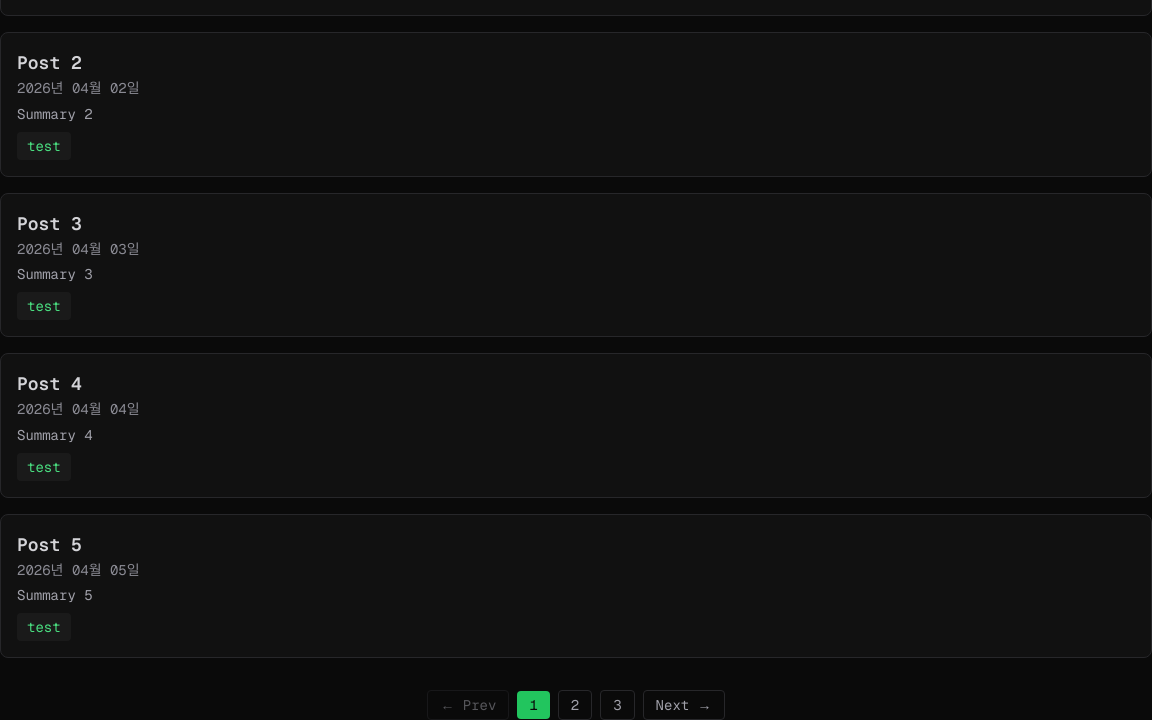
Test: PostList › navigates to next page
The width and height of the screenshot is (1152, 720).
(page scrolled)
Click the button "Next →" at (684, 705), box 643,690 -> 725,719
(page scrolled)
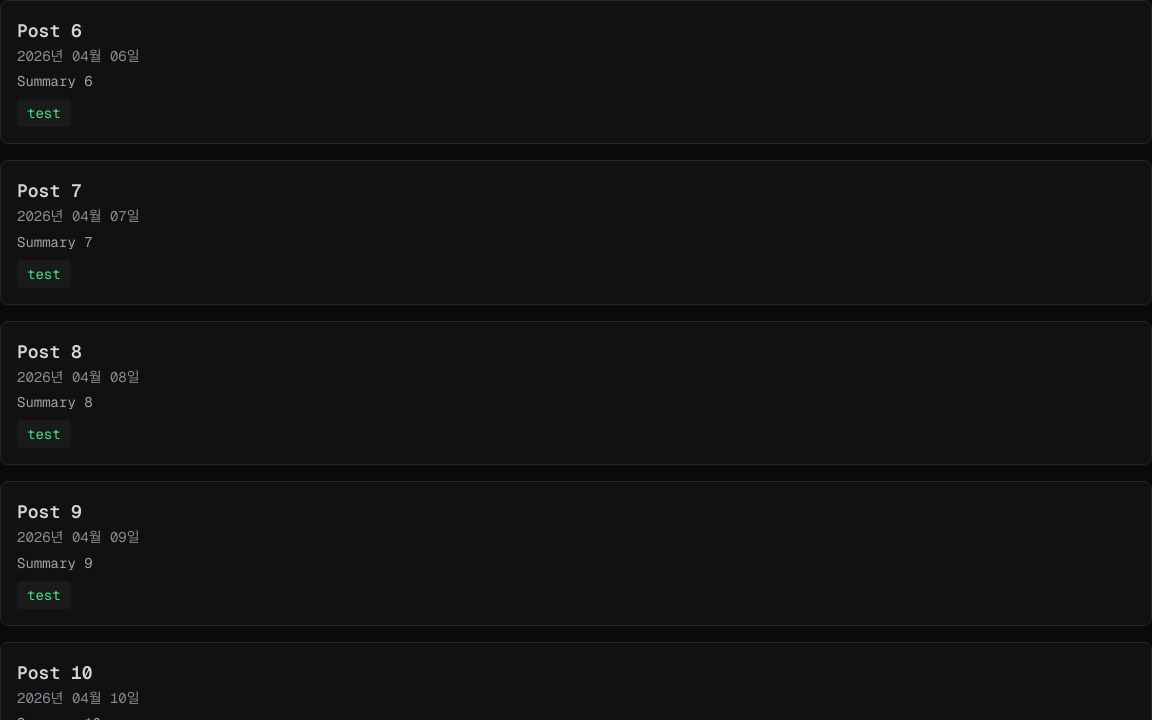
Result: the text "Post 6" is shown at 17,19 -> 82,42
